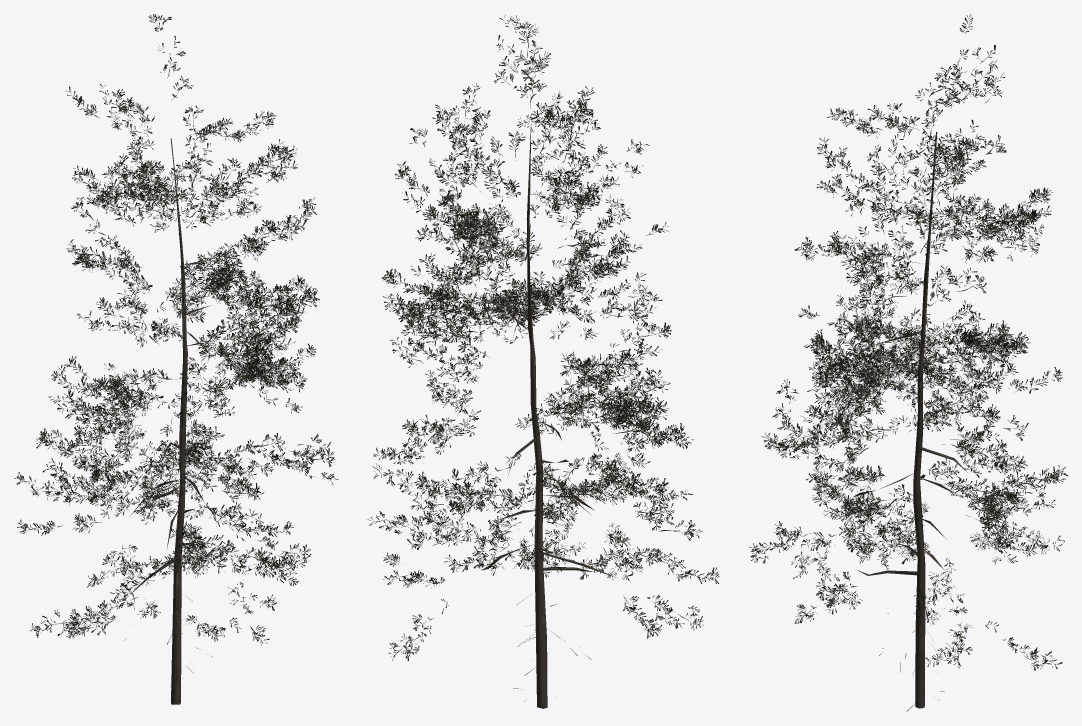
File: conifer-mobile.glb
3 renders of one model, left to right at view 1: azimuth 30°, elevation 25°; view 2: azimuth 150°, elevation 25°; view 3: azimuth 270°, elevation 25°, orthographic. The views are drawn at different scales.
Visible parts, largest first — view 1: pine_sapling_medium_a_LOD0; view 2: pine_sapling_medium_a_LOD0; view 3: pine_sapling_medium_a_LOD0.
Boxes of the visible parts, x1,y1,x2,y2 form: pine_sapling_medium_a_LOD0: (14,14,338,704); pine_sapling_medium_a_LOD0: (367,15,719,708); pine_sapling_medium_a_LOD0: (749,14,1067,711).
Bounding box in the file's own units: 5.16 × 11.36 × 4.71.
3 materials, 3 textured.
